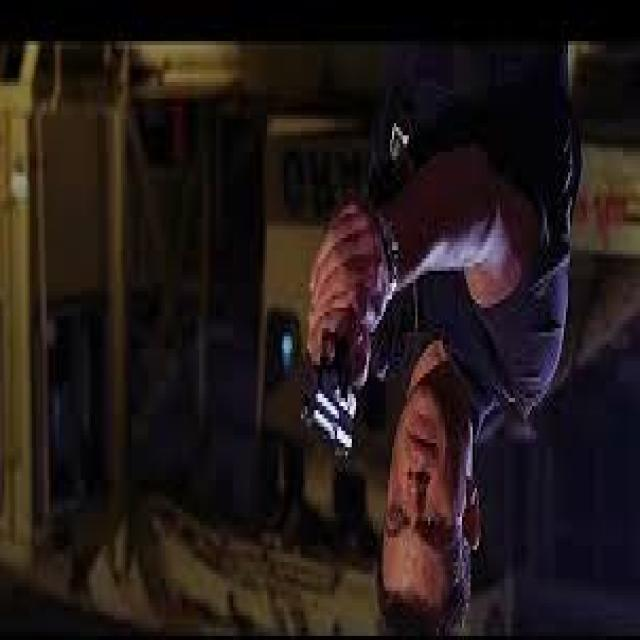gun: (279, 260, 374, 481)
